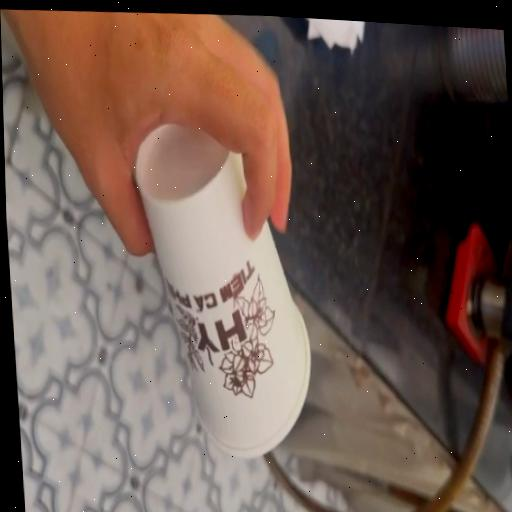Ly_giay: (134, 125, 309, 457)
